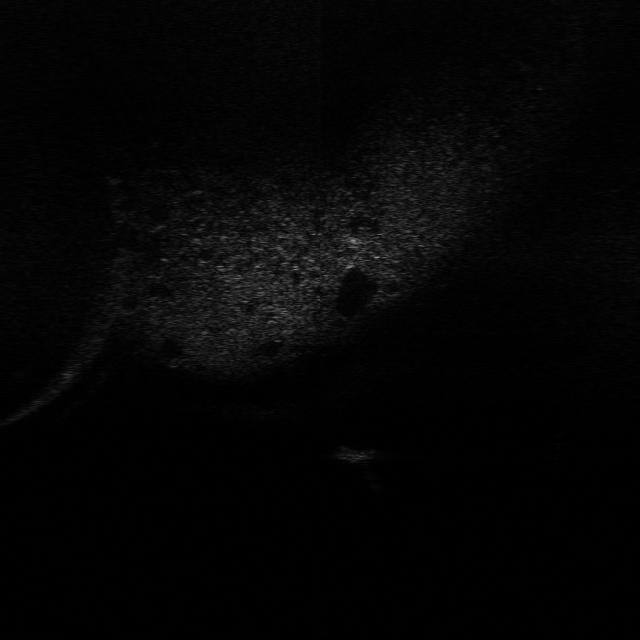cube: (328, 442, 384, 469)
